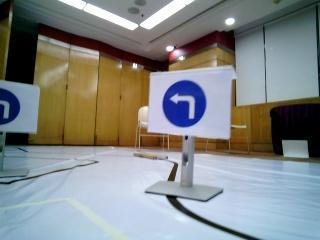left: (153, 79, 226, 131)
